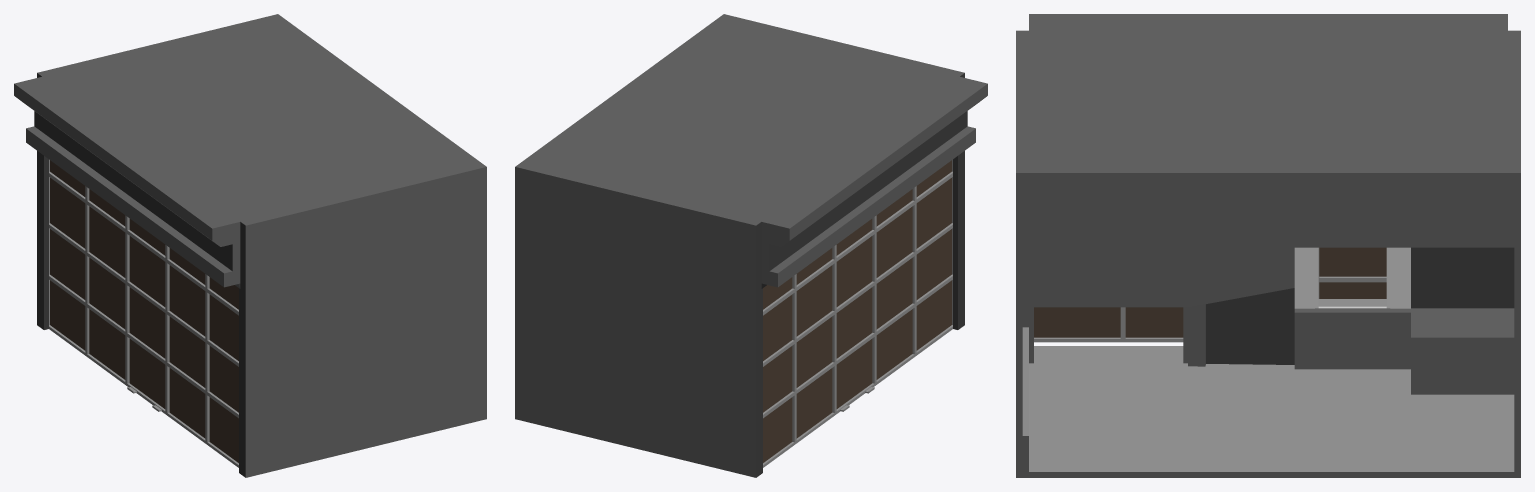
The model's file is Store_01.FBX.
3 renders of one model, left to right at view 1: azimuth 30°, elevation 25°; view 2: azimuth 150°, elevation 25°; view 3: azimuth 270°, elevation 25°, orthographic. The views are drawn at different scales.
Visible parts, largest first — view 1: Store_01_LOD0, Store_01_Shutter_LOD0; view 2: Store_01_LOD0, Store_01_Shutter_LOD0; view 3: Store_01_LOD0, Store_01_Shutter_LOD0.
Boxes of the visible parts, x1,y1,x2,y2 form: Store_01_LOD0: (14, 14, 486, 477); Store_01_Shutter_LOD0: (49, 159, 238, 467); Store_01_LOD0: (515, 14, 987, 477); Store_01_Shutter_LOD0: (763, 159, 952, 467); Store_01_LOD0: (1016, 14, 1520, 477); Store_01_Shutter_LOD0: (1034, 247, 1386, 342).
Size of what is drawn, in the model's own units: 201 by 180 by 270.
